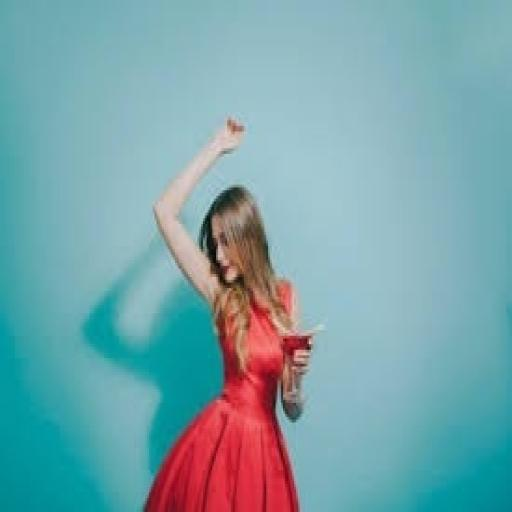dancing: (140, 112, 316, 509)
